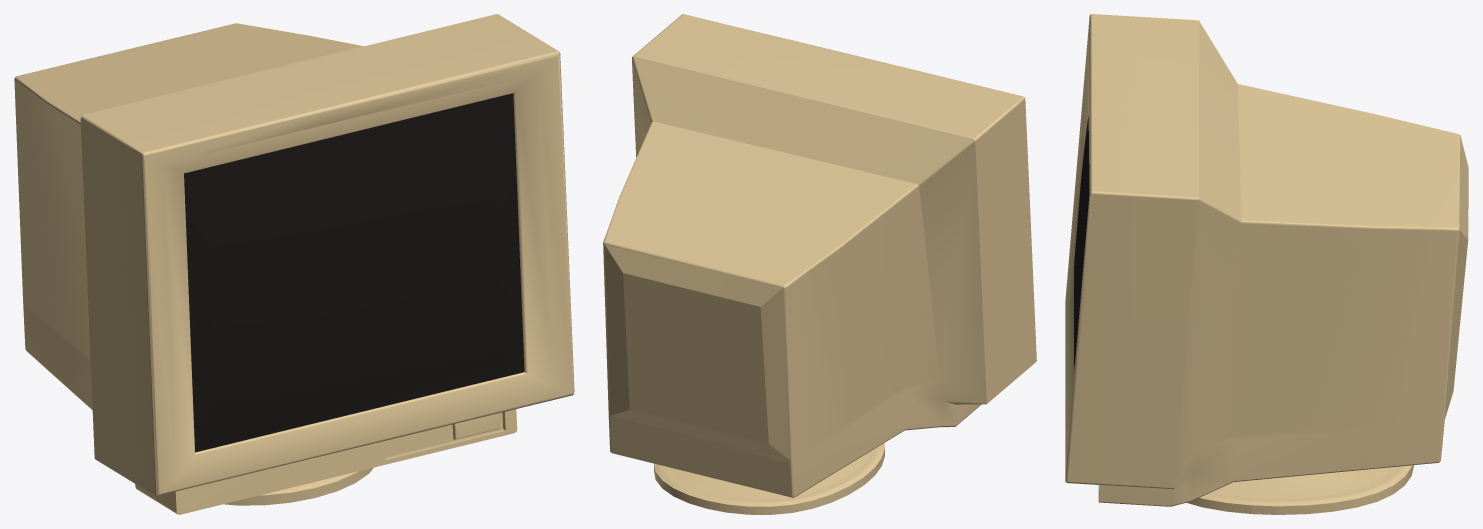
File: monitor.fbx
3 renders of one model, left to right at view 1: azimuth 30°, elevation 25°; view 2: azimuth 150°, elevation 25°; view 3: azimuth 270°, elevation 25°, orthographic. The views are drawn at different scales.
Parts seen in each view (by area): view 1: polySurface2; view 2: polySurface2; view 3: polySurface2.
Boxes of the visible parts, x1,y1,x2,y2 form: polySurface2: (14, 14, 574, 514); polySurface2: (603, 14, 1036, 514); polySurface2: (1065, 14, 1468, 514).
Size of the model in its own units: 10.66 by 10.15 by 10.15.
1 material, 1 textured.
